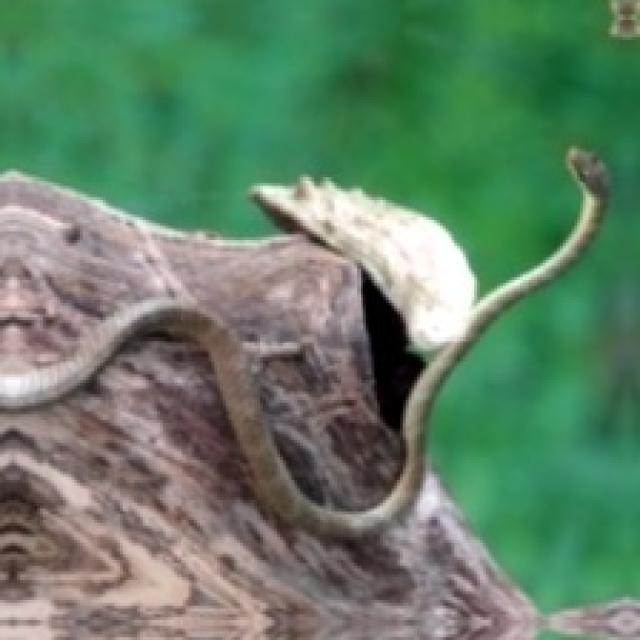paradise tree snake: (0, 149, 603, 637)
